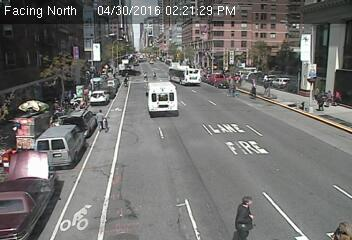neg: (179, 73, 195, 95), (274, 115, 290, 137), (144, 82, 160, 102), (25, 96, 40, 116), (214, 115, 229, 134), (177, 174, 190, 192), (312, 123, 323, 139), (16, 134, 27, 149), (95, 78, 105, 92), (158, 131, 168, 144), (100, 161, 109, 174), (250, 86, 259, 98), (121, 76, 129, 87)
pos: (227, 192, 261, 237), (92, 107, 110, 130), (314, 90, 327, 107), (332, 87, 344, 102), (314, 83, 324, 96), (327, 89, 336, 102), (150, 70, 158, 80), (142, 71, 149, 80)
